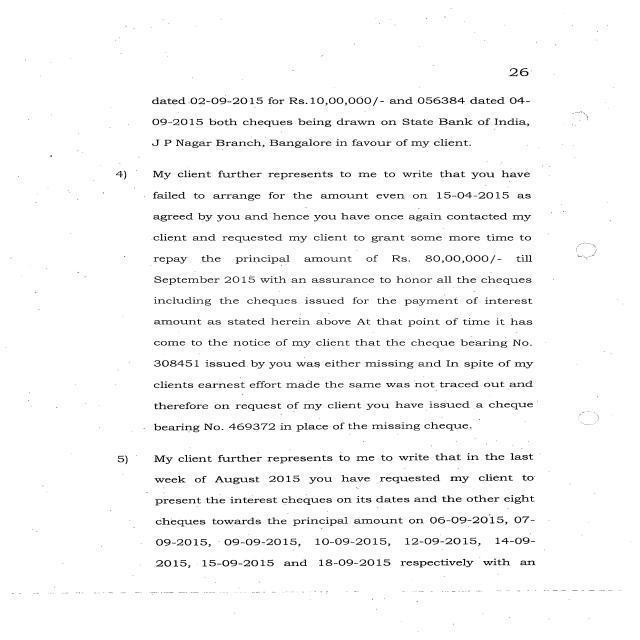page-number: (403, 18, 622, 90)
